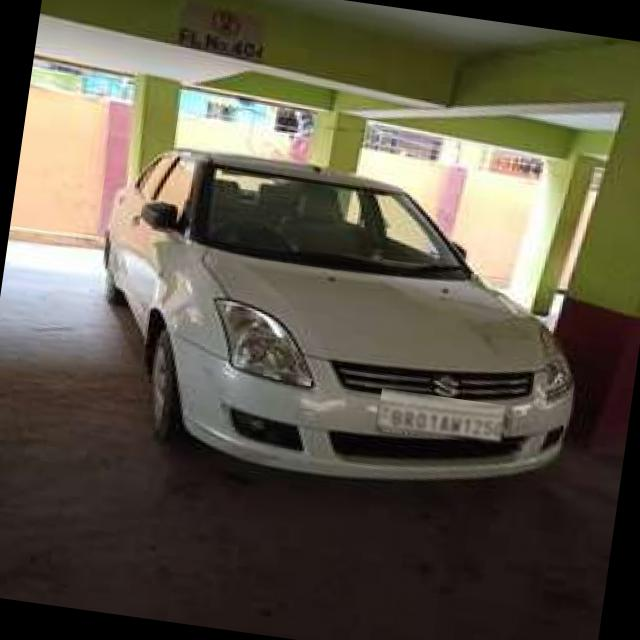Plate: (378, 390, 510, 447)
